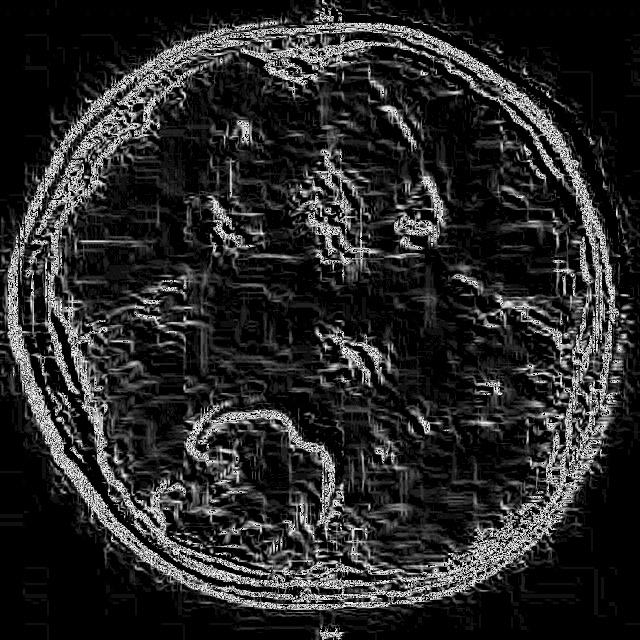Brain-Tumor: (130, 388, 384, 596)
